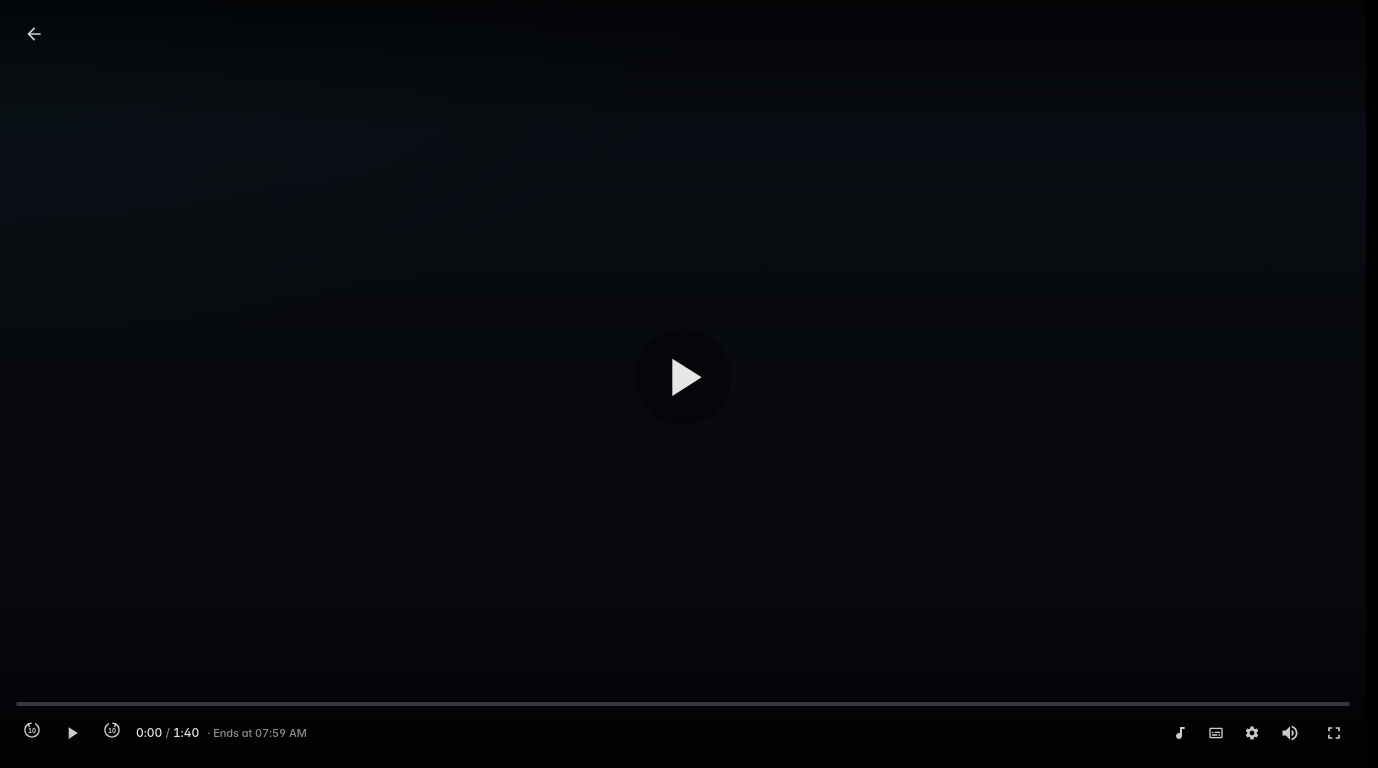
Test: PlayerControls — audio picker › pairs multiple same-language tracks in file order
Click the button named "audio". click: x=1180, y=733
box: [1166,719,1194,747]
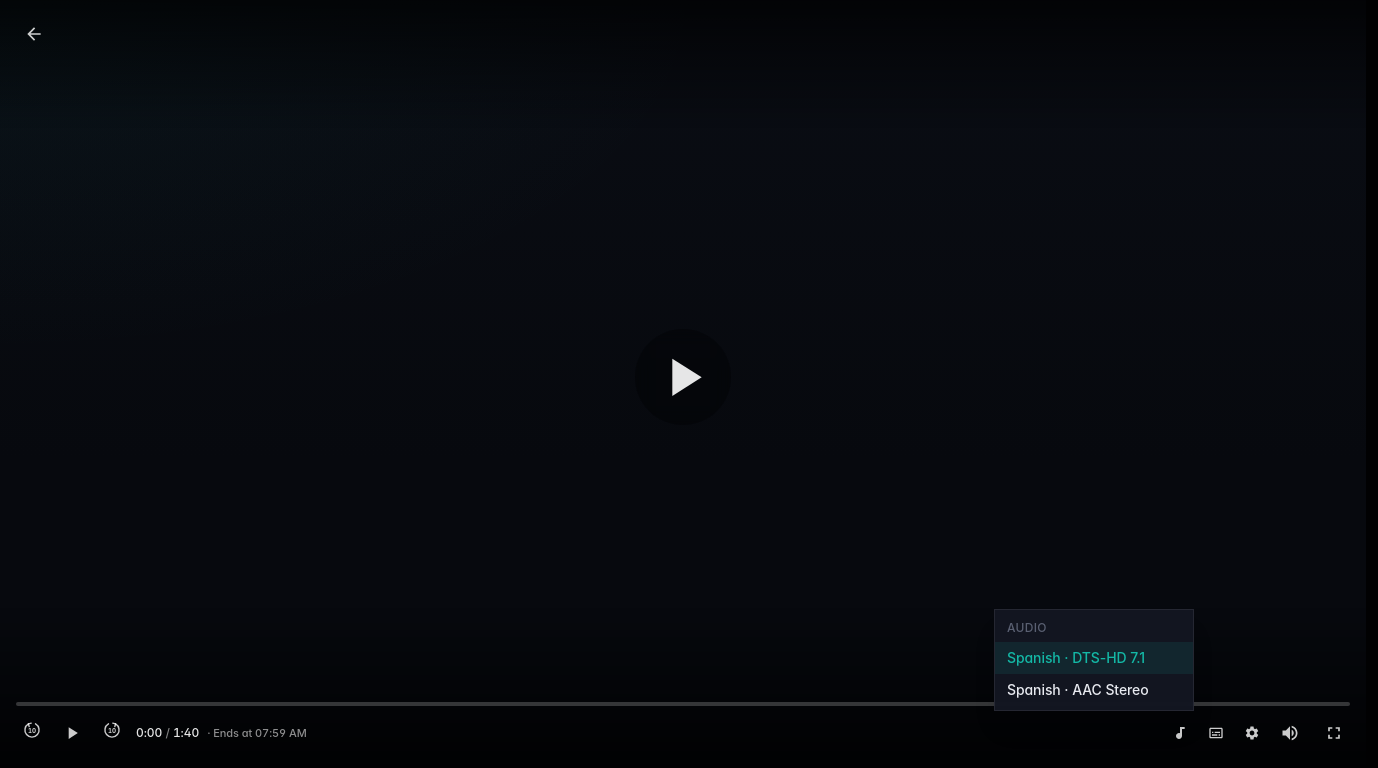
Check: the text "Spanish · DTS-HD 7.1" is shown, box [1007,649,1145,666]
Check: the text "Spanish · AAC Stereo" is shown, box [1007,681,1149,698]
